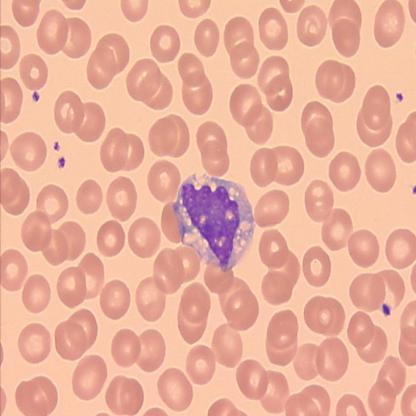Atypical lymphocyte: (175, 170, 255, 272)
